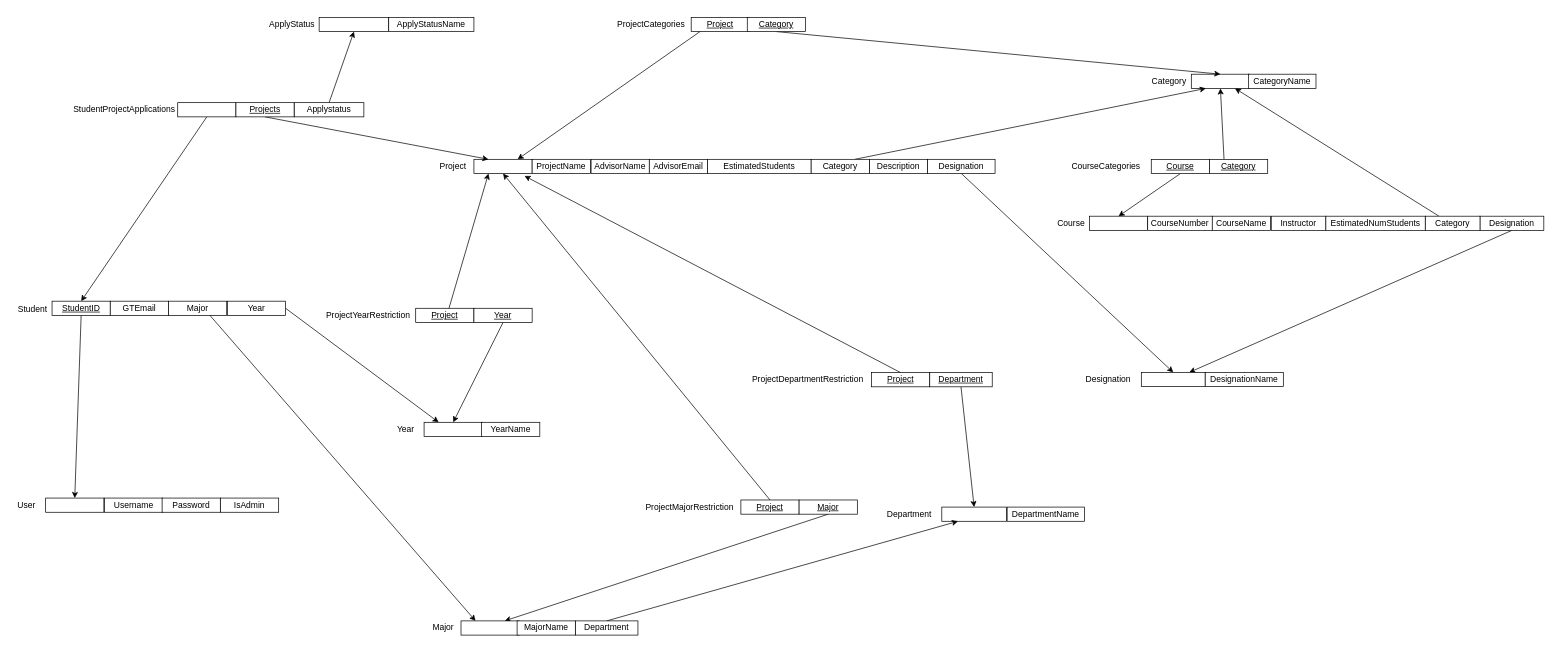
Image size: 1556x648. Some labels were removed from this diagram. Here are the shapes that lost their labels. From the top down, the centre of each, then its label:
the point at 353,24: ApplyStatusID
the point at 1220,80: CategoryID
the point at 206,109: Students
the point at 502,166: ProjectID
the point at 1118,222: CourseID
the point at 1173,379: DesignationID
the point at 452,429: YearID
the point at 74,504: UserID
the point at 973,513: DepartmentID
the point at 489,627: MajorID
